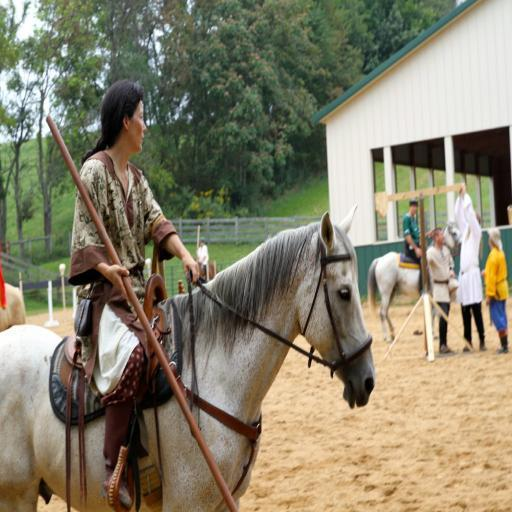Horse: (0, 204, 378, 511), (367, 218, 463, 344)
